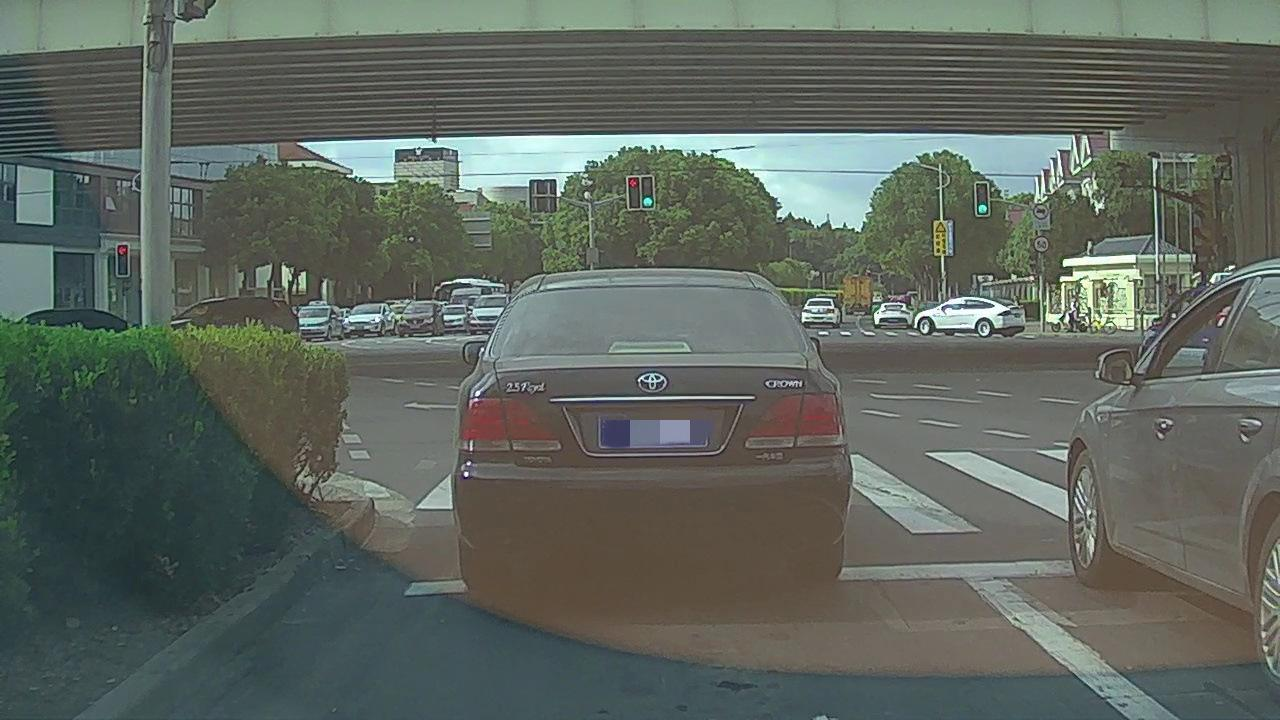traffic_light: (975, 182, 989, 215), (640, 177, 654, 209), (626, 177, 640, 208), (118, 244, 129, 276)
